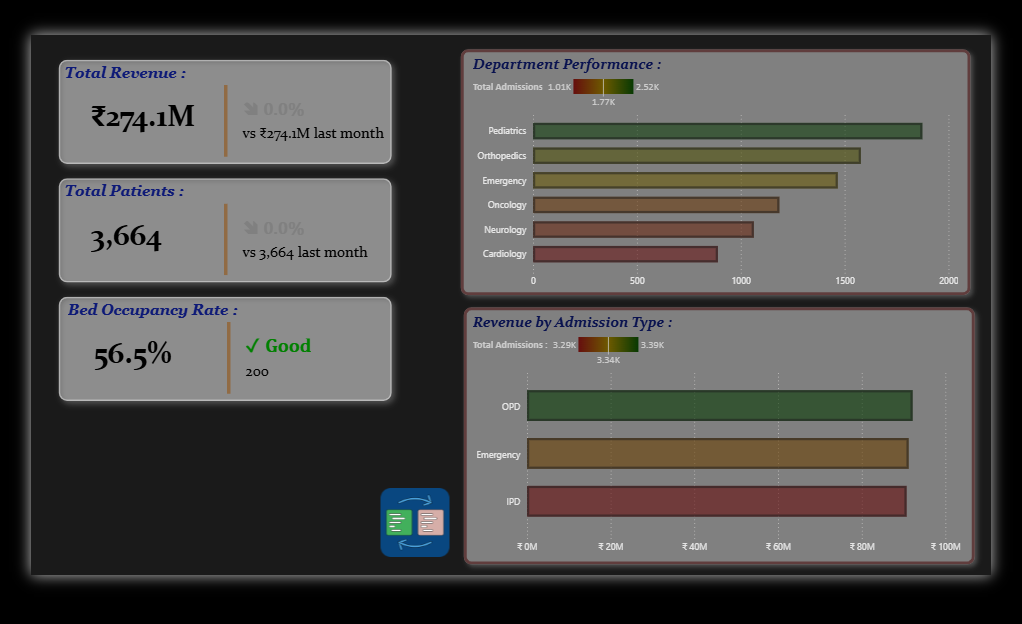

Layout of this report page (visuals, bound fields, positions):
{"tool":"powerbi","page":{"name":"Executive Overview :-","canvas":[1280,720],"ordinal":1},"visuals":[{"type":"group","id":"g1","title":"Visual - Dept Performance ","box":[562.4,8.6,701.7,350],"z":0,"group":"g2"},{"type":"group","id":"g2","title":"Visuals - Set_2","box":[562.4,8.6,706.8,709.1],"z":0},{"type":"shape","box":[562.4,8.6,701.7,350],"z":0,"group":"g1"},{"type":"shape","box":[23.3,104.1,470,165],"z":0,"group":"g6"},{"type":"actionButton","title":"Home Button ","box":[25,142.5,95,100],"z":0,"group":"g9"},{"type":"shape","box":[23.3,262.4,470,165],"z":0,"group":"g4"},{"type":"shape","box":[565.9,352.7,703.3,365],"z":0,"group":"g5"},{"type":"group","id":"g3","title":"KPI - Bed Occupancy","box":[23.3,420.8,560,165],"z":0,"group":"g7"},{"type":"shape","box":[23.3,420.8,470,165],"z":0,"group":"g3"},{"type":"actionButton","title":"Next Button ","box":[170,600,95,100],"z":0,"group":"g8"},{"type":"actionButton","title":"Filter Button ","box":[25,20,95,100],"z":1000,"group":"g9"},{"type":"clusteredBarChart","title":"Department Performance :","fields":{"Category":["Departments.Department_Name"],"Y":["MyMeasures.Patients(Total)"]},"box":[584.7,26.9,657.1,320],"z":1000,"group":"g1"},{"type":"cardVisual","title":"Total Revenue :","fields":{"Data":["MyMeasures.Revenue(Display)"]},"box":[40,122.4,540,130],"z":1000,"group":"g6"},{"type":"group","id":"g4","title":"KPI - Total Patients","box":[23.3,262.4,556.7,165],"z":1000,"group":"g7"},{"type":"cardVisual","title":"Total Patients :","fields":{"Data":["MyMeasures.Patients(Display)"]},"box":[40,280.7,540,130],"z":1000,"group":"g4"},{"type":"group","id":"g5","title":"Visual - Revenue by Diagnosis","box":[565.9,352.7,703.3,365],"z":1000,"group":"g2"},{"type":"clusteredBarChart","title":"Revenue by Admission Type :","fields":{"Category":["Admissions.Admission_Type"],"Y":["MyMeasures.Revenue(Total)"]},"box":[583.5,371,660,330],"z":1000,"group":"g5"},{"type":"cardVisual","title":"Bed Occupancy Rate :","fields":{"Data":["MyMeasures.Bed Occupancy Display"]},"box":[43.3,439.1,540,130],"z":1000,"group":"g3"},{"type":"actionButton","title":"Change View Button 1","box":[462.5,600,100,100],"z":1000},{"type":"group","id":"g6","title":"KPI - Total Revenue ","box":[23.3,104.1,556.7,165],"z":2000,"group":"g7"},{"type":"group","id":"g7","title":"All KPIs","box":[23.3,104.1,560,481.7],"z":4000},{"type":"group","id":"g8","title":"Navigation ","box":[170,600,95,100],"z":5000},{"type":"shape","title":"Title","box":[7,11,555,85],"z":7001},{"type":"group","id":"g9","title":"Home + Filter ","box":[25,20,95,222.5],"z":7251}]}

Visuals, with their boxes on the page's 1280x720 design canvas (x1, y1, x2, y2). These are canvas units, not pixel positions in the 1022x624 screenshot, which may show the page scaled, cropped or inside an application window:
"Visual - Dept Performance " group: rect(562, 9, 1264, 359)
"Visuals - Set_2" group: rect(562, 9, 1269, 718)
shape: rect(562, 9, 1264, 359)
shape: rect(23, 104, 493, 269)
"Home Button " actionButton: rect(25, 142, 120, 242)
shape: rect(23, 262, 493, 427)
shape: rect(566, 353, 1269, 718)
"KPI - Bed Occupancy" group: rect(23, 421, 583, 586)
shape: rect(23, 421, 493, 586)
"Next Button " actionButton: rect(170, 600, 265, 700)
"Filter Button " actionButton: rect(25, 20, 120, 120)
"Department Performance :" clusteredBarChart: rect(585, 27, 1242, 347)
"Total Revenue :" cardVisual: rect(40, 122, 580, 252)
"KPI - Total Patients" group: rect(23, 262, 580, 427)
"Total Patients :" cardVisual: rect(40, 281, 580, 411)
"Visual - Revenue by Diagnosis" group: rect(566, 353, 1269, 718)
"Revenue by Admission Type :" clusteredBarChart: rect(584, 371, 1244, 701)
"Bed Occupancy Rate :" cardVisual: rect(43, 439, 583, 569)
"Change View Button 1" actionButton: rect(462, 600, 562, 700)
"KPI - Total Revenue " group: rect(23, 104, 580, 269)
"All KPIs" group: rect(23, 104, 583, 586)
"Navigation " group: rect(170, 600, 265, 700)
"Title" shape: rect(7, 11, 562, 96)
"Home + Filter " group: rect(25, 20, 120, 242)
